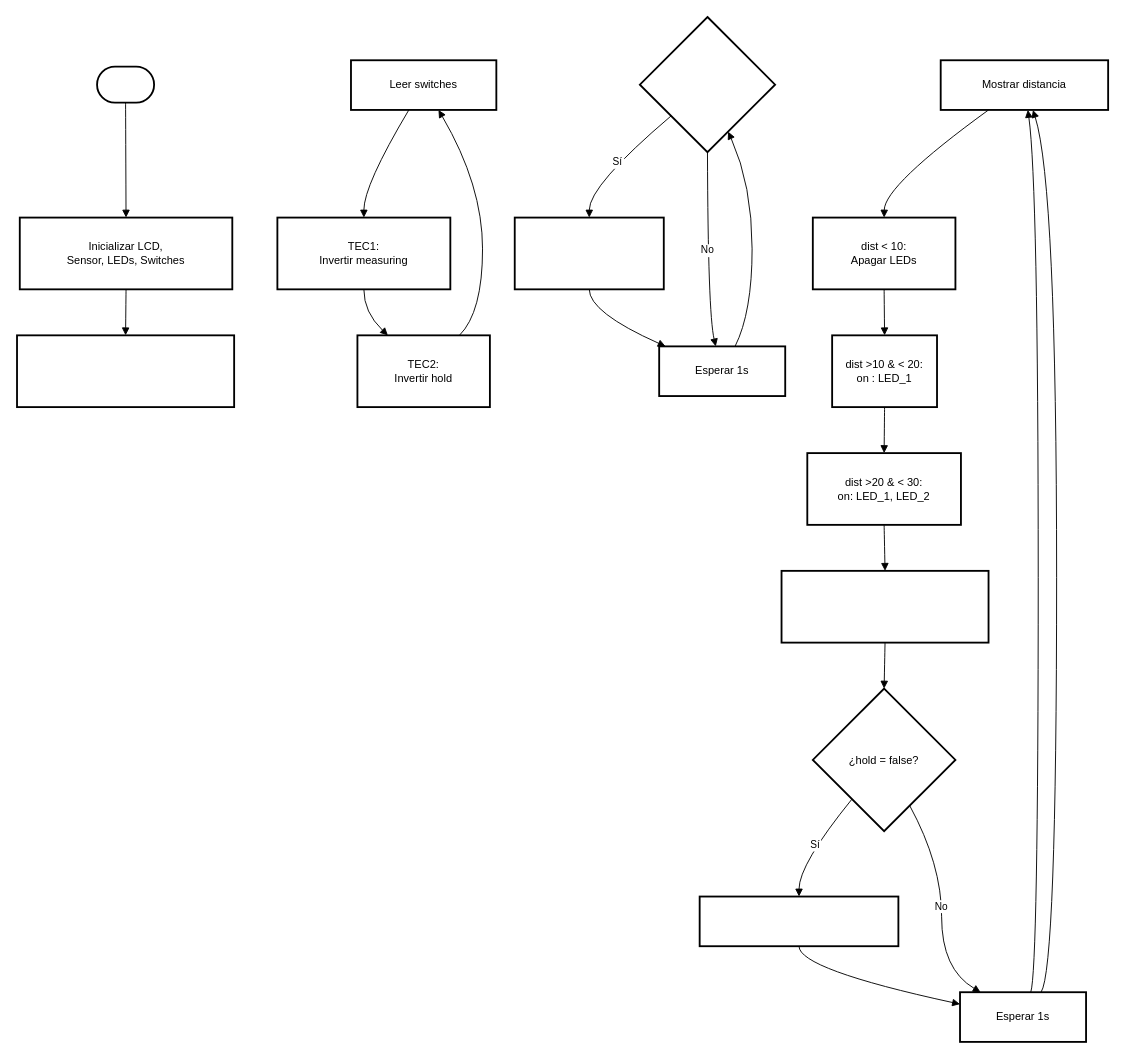
This 1124x1058 diagram has some shape labels left out. Here are the shapes that lost their labels. From the top down, the centre of each, then its label:
the point at 125,84: Inicio
the point at 707,84: ¿measuring?
the point at 588,253: Leer distancia con HC_SR04
the point at 125,371: Crear tareas: readKey, measure, show
the point at 884,606: Distancia >= 30: on: LED_1, LED_2, LED_3
the point at 798,921: LCD escribe distancia
